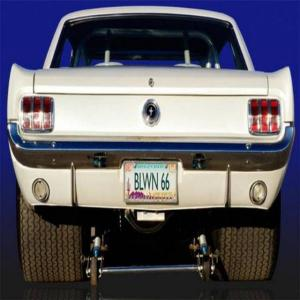Plate: (124, 161, 179, 205)
